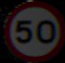Speed limit: (7, 2, 61, 57)
